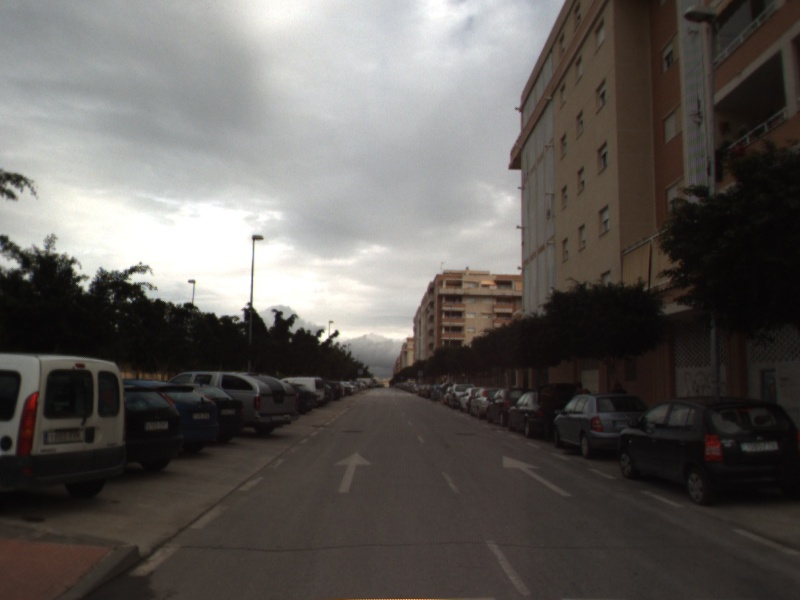STRAIGHT: (500, 454, 575, 498), (332, 450, 374, 494)
